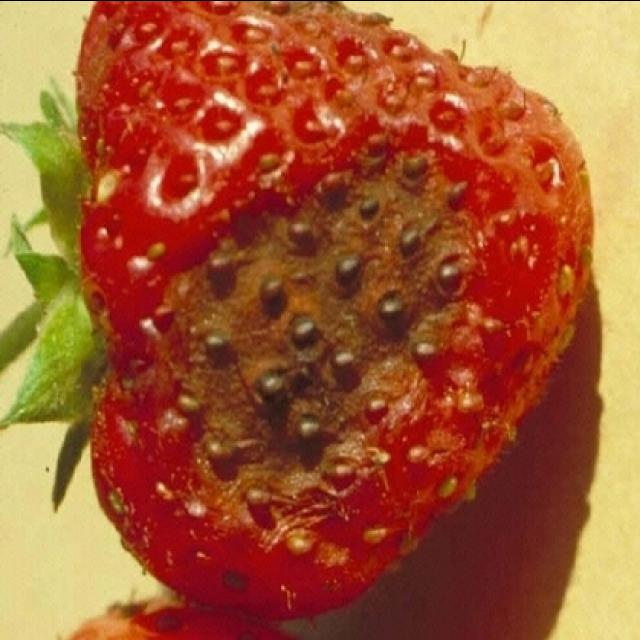Anthracnose Fruit Rot: (118, 114, 485, 562)
